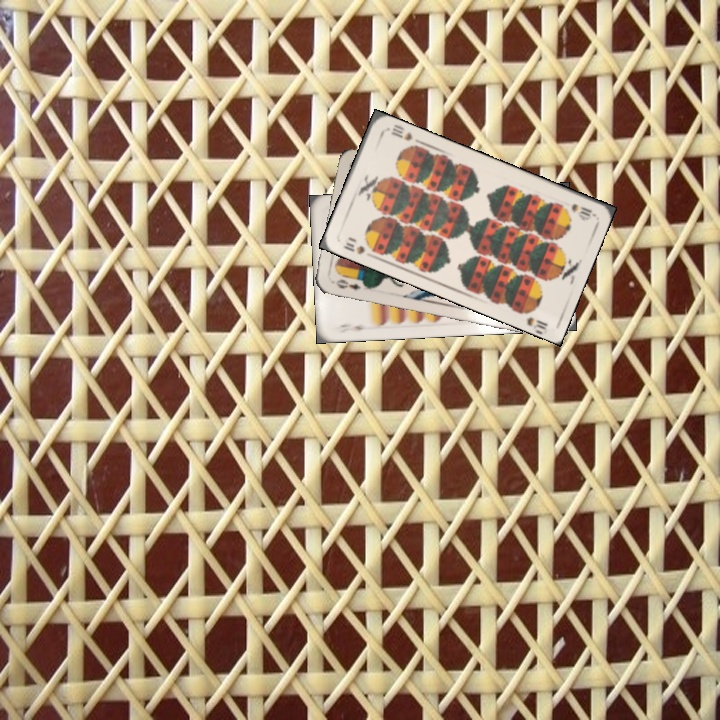E9: (332, 320, 371, 335)
EO: (328, 275, 364, 293)
S10: (340, 238, 377, 257), (567, 199, 594, 221)
